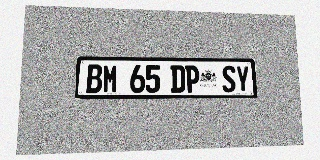5: (145, 65, 160, 93)
6: (130, 65, 145, 93)
B: (86, 64, 102, 93)
D: (170, 65, 185, 93)
M: (102, 65, 118, 93)
P: (185, 65, 200, 93)
S: (222, 66, 236, 92)
Y: (235, 66, 250, 92)
